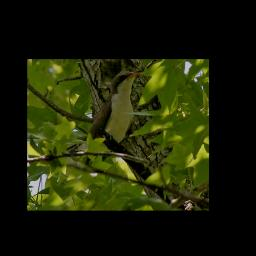Cuckoo: (65, 68, 145, 166)
